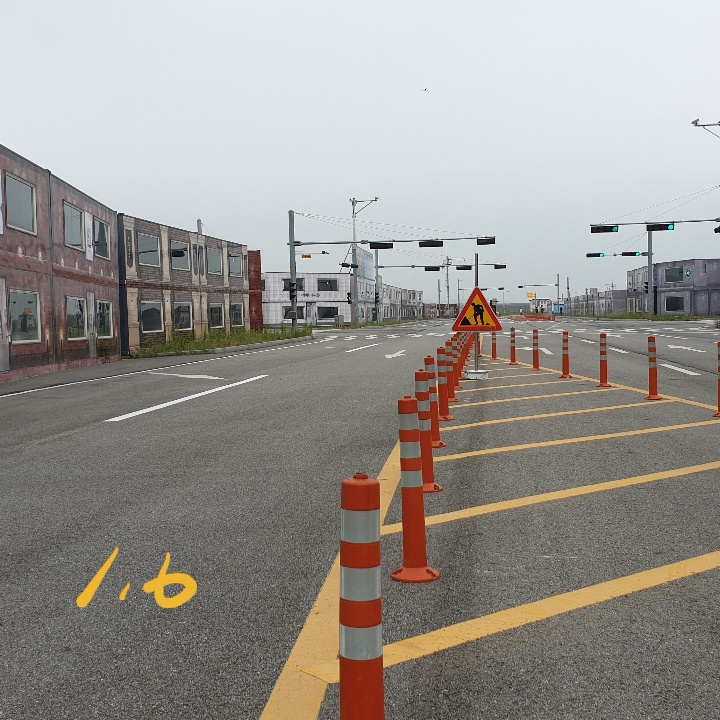const: (456, 297, 492, 326)
